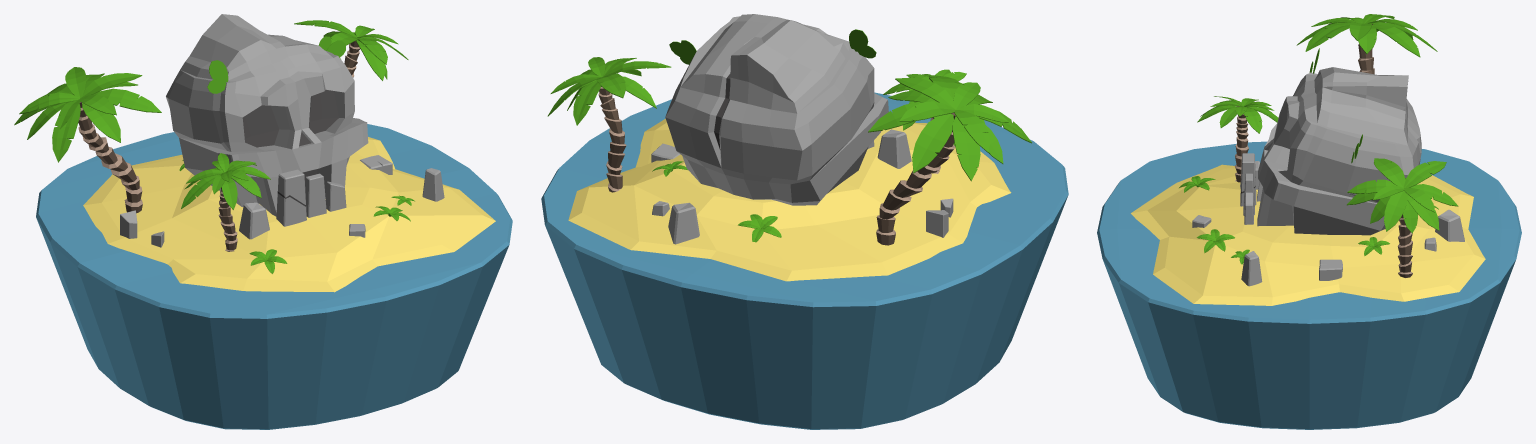
File: Island_5.fbx
The picture shows the model from 3 angles, left to right: view 1: azimuth 30°, elevation 25°; view 2: azimuth 150°, elevation 25°; view 3: azimuth 270°, elevation 25°; orthographic projection. The views are drawn at different scales.
Parts seen in each view (by area): view 1: Island_5_Base, Island_5_Island, Island_5_Scull, Island_5; view 2: Island_5_Base, Island_5_Island, Island_5_Scull, Island_5; view 3: Island_5_Base, Island_5_Island, Island_5_Scull, Island_5.
Boxes of the visible parts, <box> form: Island_5_Base: <box>36,124,512,429</box>; Island_5_Island: <box>83,137,495,292</box>; Island_5_Scull: <box>166,14,368,216</box>; Island_5: <box>14,20,444,273</box>; Island_5_Base: <box>541,92,1068,429</box>; Island_5_Island: <box>568,118,1011,281</box>; Island_5_Scull: <box>665,14,888,205</box>; Island_5: <box>547,29,1031,245</box>; Island_5_Base: <box>1097,141,1521,429</box>; Island_5_Island: <box>1131,164,1485,305</box>; Island_5_Scull: <box>1257,67,1421,235</box>; Island_5: <box>1179,14,1464,286</box>.
Size of the model in its own units: 2701 by 2560 by 1928.
